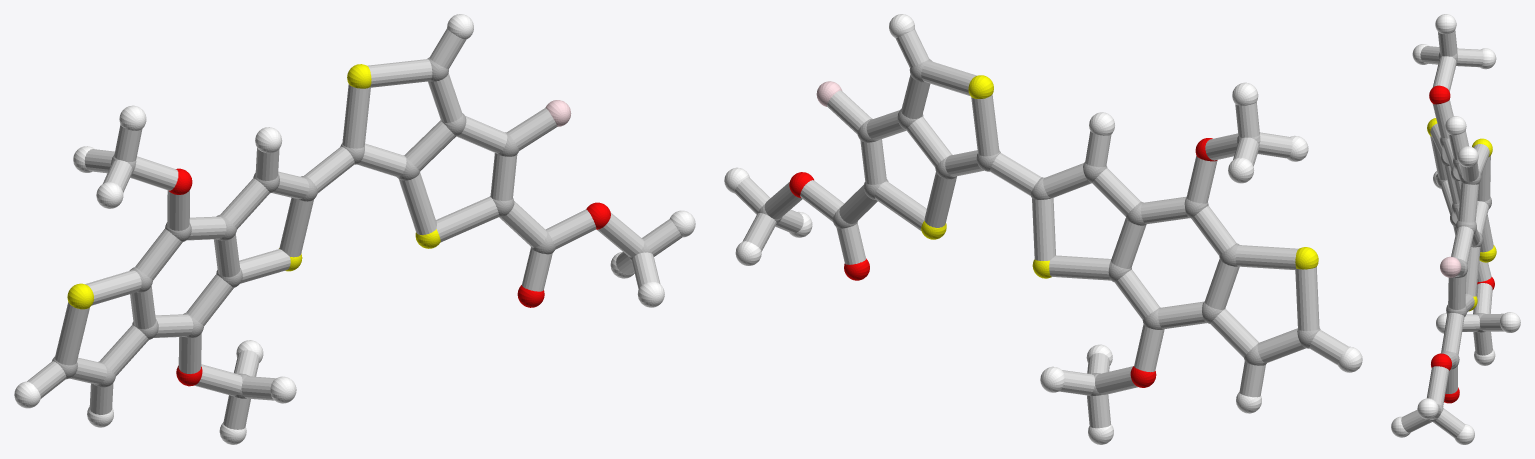
File: Dimethoxy_Benzodithiophene_Phi_15_Theta_340_Methylcarbonyl_3_Fluoro_Thienothiophene.glb
3 renders of one model, left to right at view 1: azimuth 30°, elevation 25°; view 2: azimuth 150°, elevation 25°; view 3: azimuth 270°, elevation 25°, orthographic. The views are drawn at different scales.
Visible parts, largest first — view 1: grp15205, grp8689, grp1, grp7241, grp13395; view 2: grp15205, grp8689, grp1, grp7241, grp13395; view 3: grp15205, grp8689, grp1, grp13395, grp7241, grp14843.
Part boxes in pixels (x1,y1,x2,y2): grp15205: (27,28,682,429); grp8689: (14,14,695,444); grp1: (52,57,651,398); grp7241: (67,64,440,309); grp13395: (169,168,610,386); grp15205: (734,29,1348,428); grp8689: (724,14,1362,444); grp1: (758,59,1320,395); grp7241: (921,75,1318,278); grp13395: (789,138,1217,387); grp15205: (1401,30,1504,437); grp8689: (1391,14,1520,444); grp1: (1428,51,1491,421); grp13395: (1429,85,1494,403); grp7241: (1427,118,1496,311); grp14843: (1440,256,1461,277).
Size of the model in its own units: 17.06 by 9.41 by 3.66.
